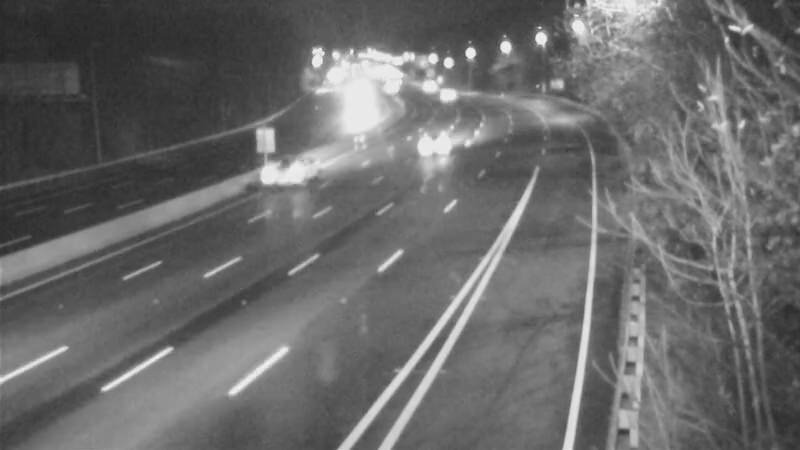vehicle: (243, 120, 323, 200), (403, 62, 453, 112), (427, 71, 477, 121), (413, 115, 463, 165)
